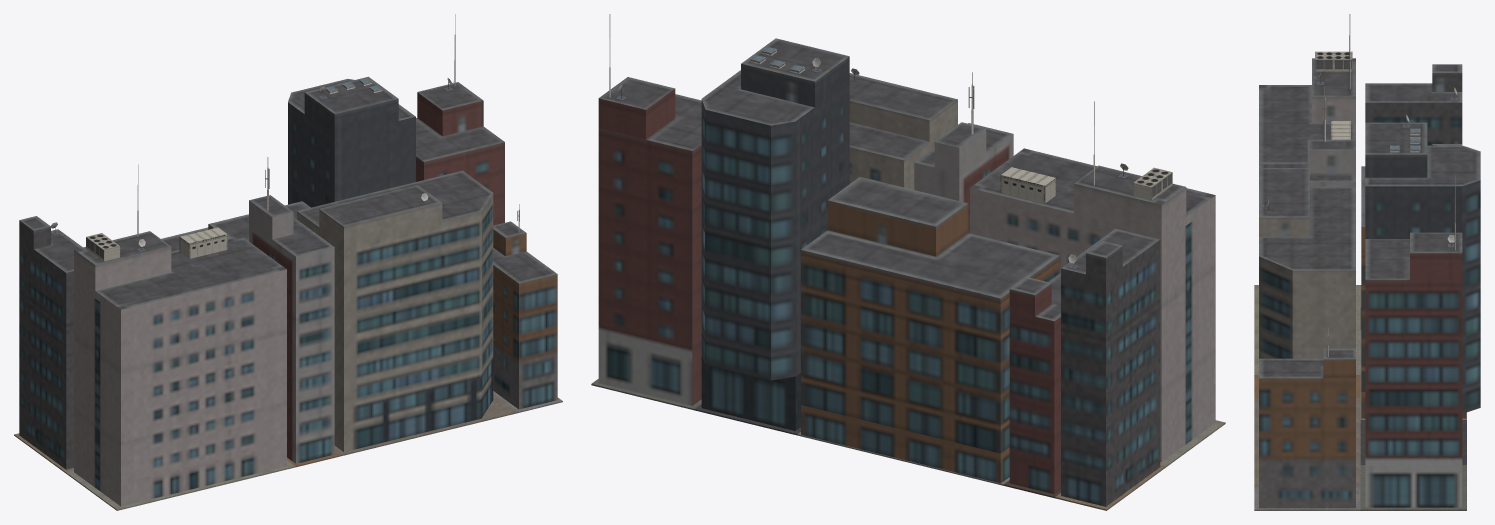
File: jctlowBldLowSetA.fbx
3 renders of one model, left to right at view 1: azimuth 30°, elevation 25°; view 2: azimuth 150°, elevation 25°; view 3: azimuth 270°, elevation 25°, orthographic. The views are drawn at different scales.
Parts seen in each view (by area): view 1: jctlowBldLowSetA; view 2: jctlowBldLowSetA; view 3: jctlowBldLowSetA.
Part boxes in pixels (x1,y1,x2,y2): jctlowBldLowSetA: (14,14,562,510); jctlowBldLowSetA: (591,14,1225,510); jctlowBldLowSetA: (1254,14,1480,510).
Size of the model in its own units: 6000 by 4109 by 2555.
Materials: 10 (10 with a texture image).
